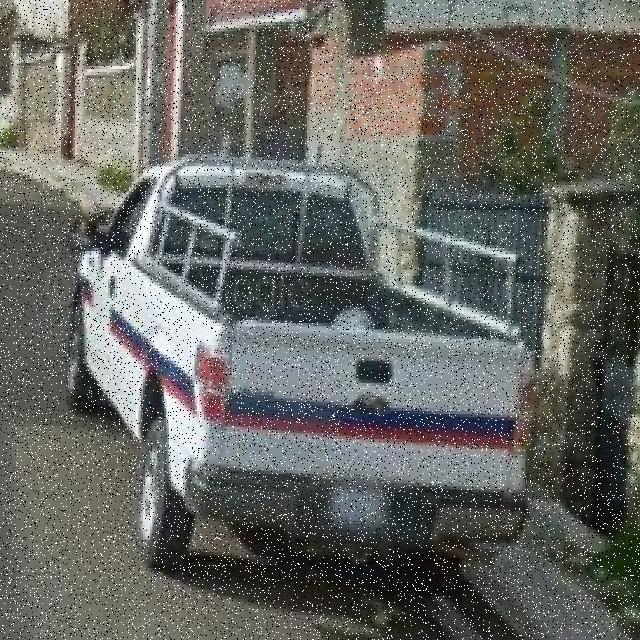cars: (55, 139, 527, 596)
